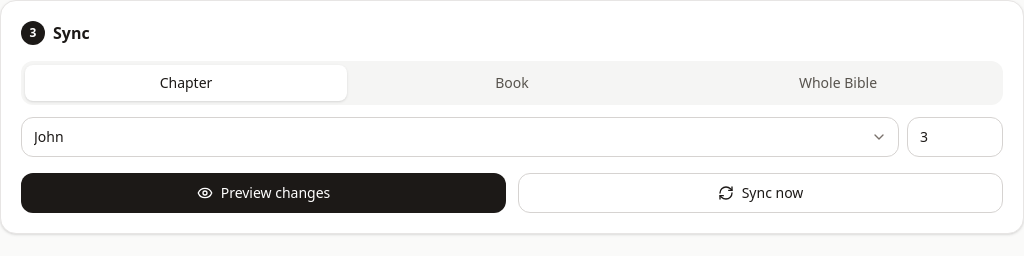
Test: SyncCard before running › estimates the whole Bible
The image size is (1024, 256).
Click the radio button labelled "Whole Bible": [838, 82] box [799,73,877,92]
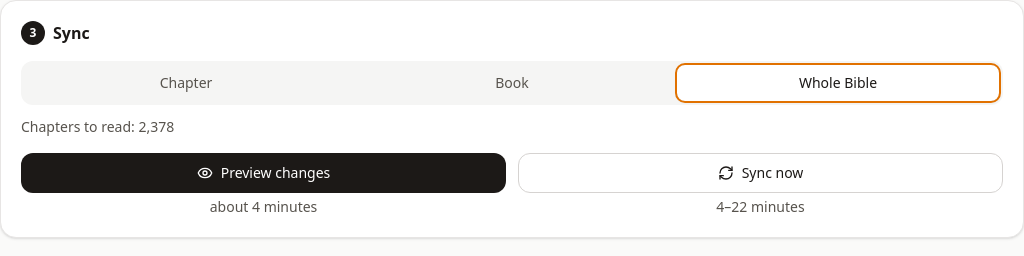
Expected: the text "Chapters to read: 2,378" is shown, [21,117,174,136]
